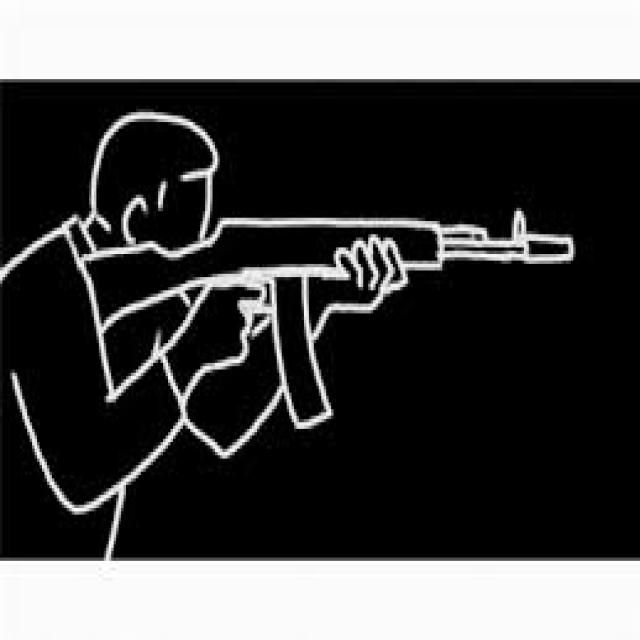soldier: (1, 111, 578, 560)
